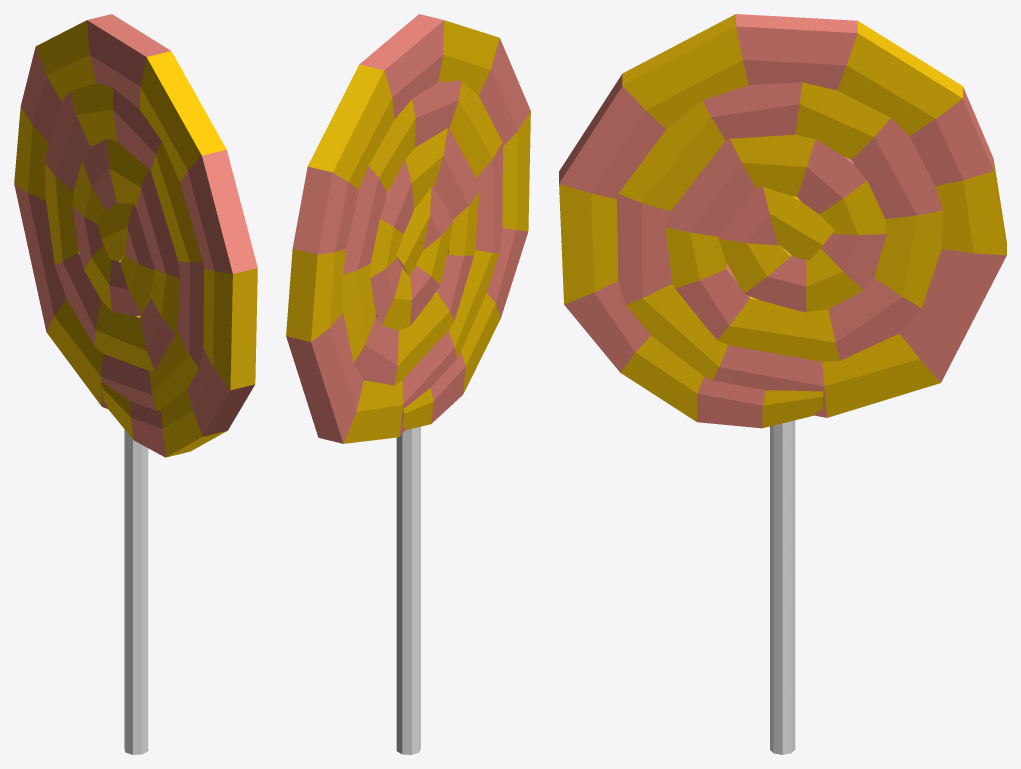
Rendered from Lollipop.glb.
3 renders of one model, left to right at view 1: azimuth 30°, elevation 25°; view 2: azimuth 150°, elevation 25°; view 3: azimuth 270°, elevation 25°, orthographic. The views are drawn at different scales.
Parts seen in each view (by area): view 1: Circle.001; view 2: Circle.001; view 3: Circle.001.
Part boxes in pixels (x1,y1,x2,y2): Circle.001: (14,14,257,754); Circle.001: (286,14,530,754); Circle.001: (559,14,1006,754).
Size of the model in its own units: 0.4379 by 9.92 by 5.52.
